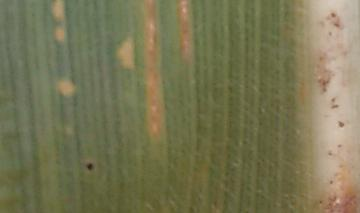tarspot: (329, 103, 341, 111), (336, 119, 345, 128), (86, 161, 93, 172), (333, 21, 341, 29), (329, 11, 337, 19), (329, 95, 336, 103), (335, 142, 342, 150), (326, 150, 334, 157), (328, 178, 334, 186), (327, 30, 333, 38), (317, 199, 323, 205)
